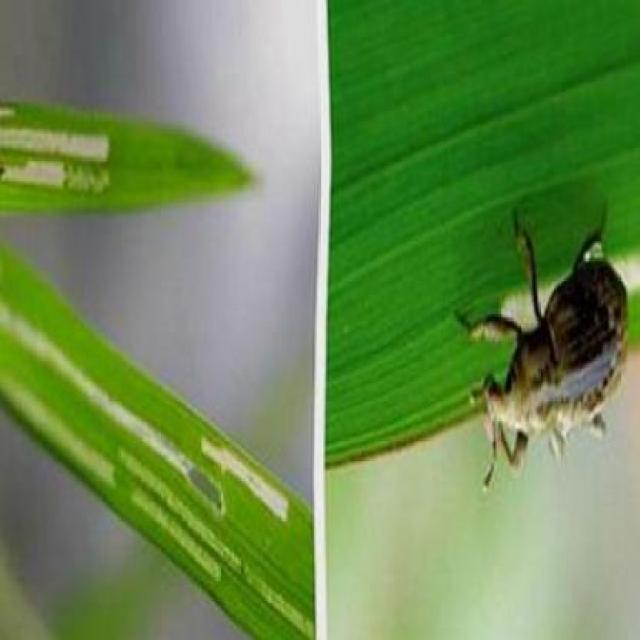rice-bug: (470, 232, 632, 486)
